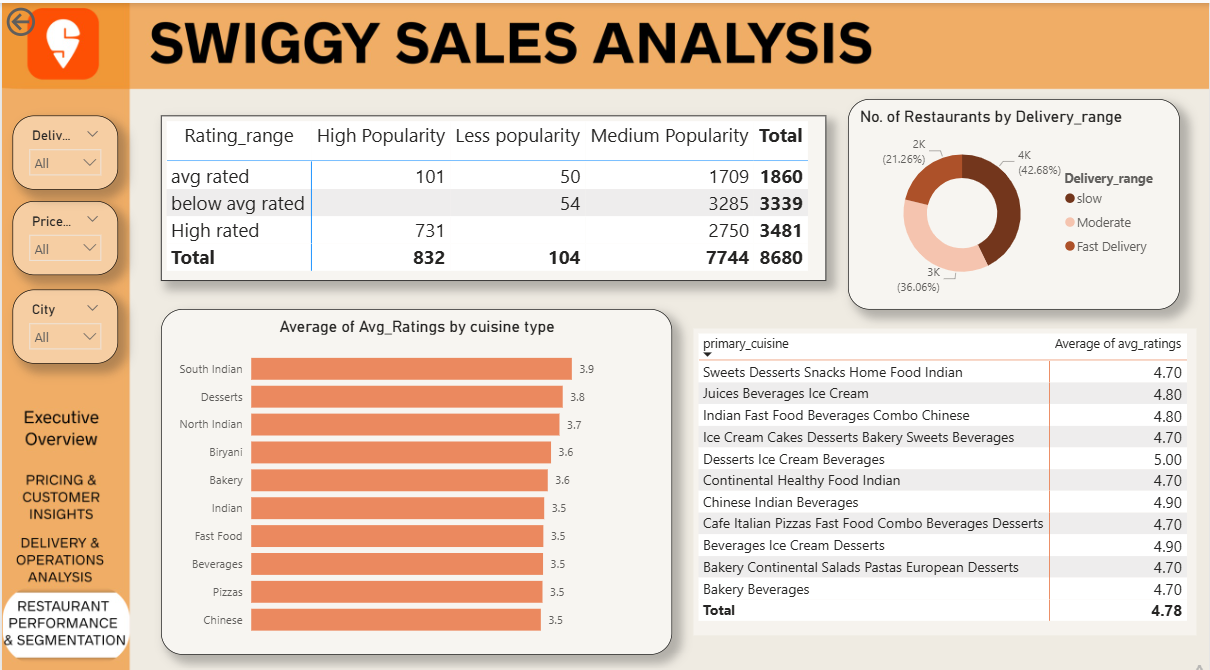

What the dashboard file says about the page in this screenshot:
{"tool":"powerbi","page":{"name":"Restaurants Performance","canvas":[1280,720],"ordinal":3},"visuals":[{"type":"pivotTable","fields":{"Rows":["final.Rating_range"],"Columns":["final.Pop_bracket"],"Values":["CountNonNull(final.Pop_bracket)"]},"box":[168.3,120,705,175],"z":0},{"type":"barChart","title":"Average of Avg_Ratings by cuisine  type","fields":{"Category":["final.primary_cuisine"],"Y":["Avg(final.avg_ratings)"]},"box":[168.3,325,541.7,366.7],"z":1000},{"type":"donutChart","fields":{"Category":["final.Delivery_range"],"Y":["final.No. of Restaurants"]},"box":[896.7,101.7,351.7,223.3],"z":2000},{"type":"pivotTable","fields":{"Rows":["final.primary_cuisine"],"Values":["Avg(final.avg_ratings)"]},"box":[733.3,345,533.3,325],"z":3000},{"type":"actionButton","box":[0,0,100,40],"z":4000},{"type":"slicer","fields":{"Values":["final.City"]},"box":[11.7,303.3,111.7,78.3],"z":5000},{"type":"slicer","fields":{"Values":["final.Price_range"]},"box":[11.7,210,111.7,78.3],"z":6000},{"type":"slicer","fields":{"Values":["final.Delivery_range"]},"box":[11.7,120,111.7,78.3],"z":7000}]}

Visuals, with their boxes on the page's 1280x720 design canvas (x1, y1, x2, y2). These are canvas units, not pixel positions in the 1210x670 screenshot, which may show the page scaled, cropped or inside an application window:
pivotTable - final.Rating_range x final.Pop_bracket: [168,120,873,295]
"Average of Avg_Ratings by cuisine  type" barChart: [168,325,710,692]
donutChart - final.Delivery_range x final.No. of Restaurants: [897,102,1248,325]
pivotTable - final.primary_cuisine x Avg(final.avg_ratings): [733,345,1267,670]
actionButton: [0,0,100,40]
slicer - final.City: [12,303,123,382]
slicer - final.Price_range: [12,210,123,288]
slicer - final.Delivery_range: [12,120,123,198]
